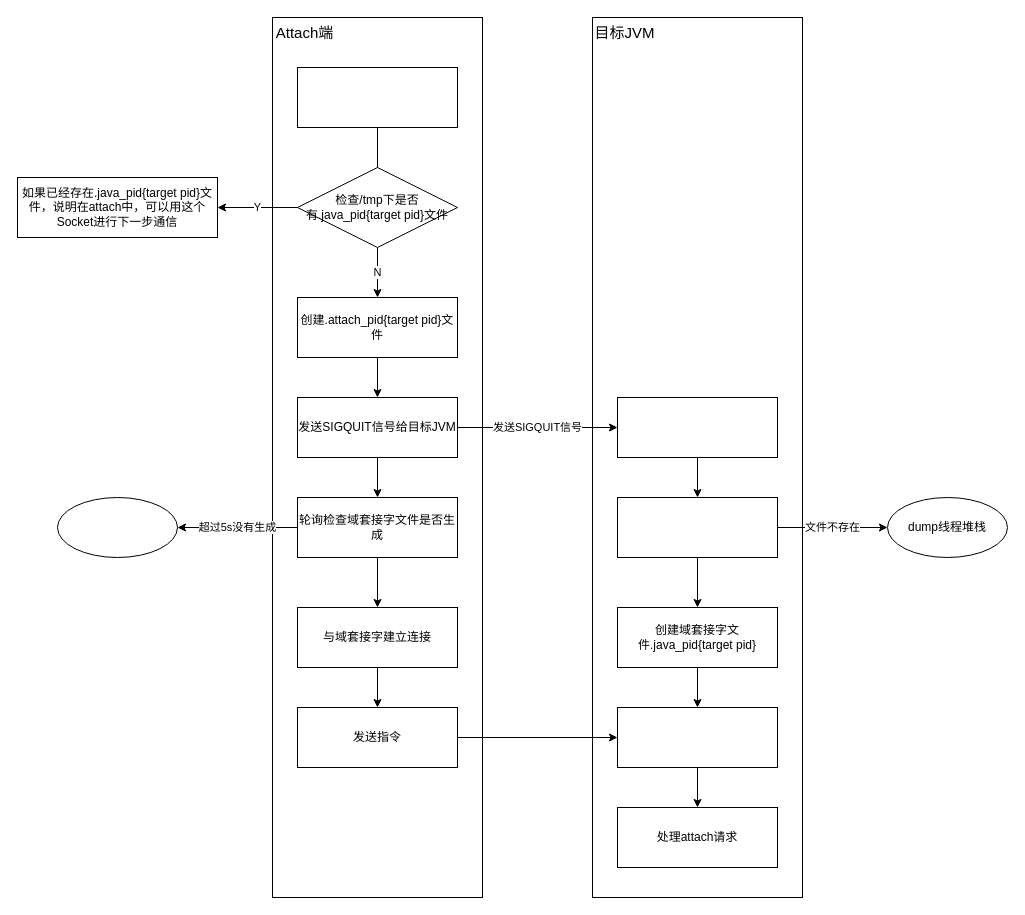
Image size: 1025x915. Some labels were removed from this diagram. The shapes that lost their labels are listed below. From the top down, each one's centre as x and y in pixels, then its label:
At (377,97): "Attach端发起attach".
At (697,427): "收到SIGQUIT信号".
At (117,527): "退出".
At (697,527): "检查是否有.attach_pid{target pid}文件".
At (697,737): "启动Attach Listener线程，接收请求".
